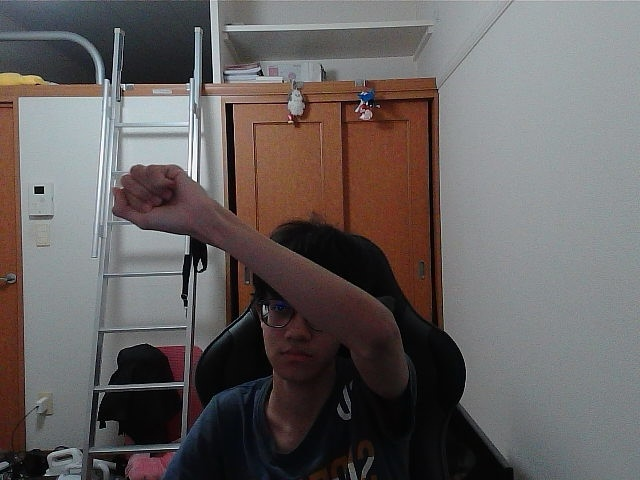closed_palm: (116, 171, 196, 225)
